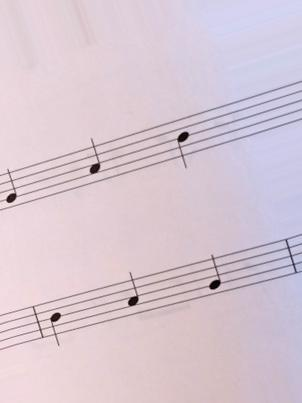A: (83, 132, 104, 187), (121, 271, 142, 321)
B: (46, 298, 67, 352), (174, 117, 194, 173)
G: (202, 253, 226, 303), (3, 165, 20, 214)
